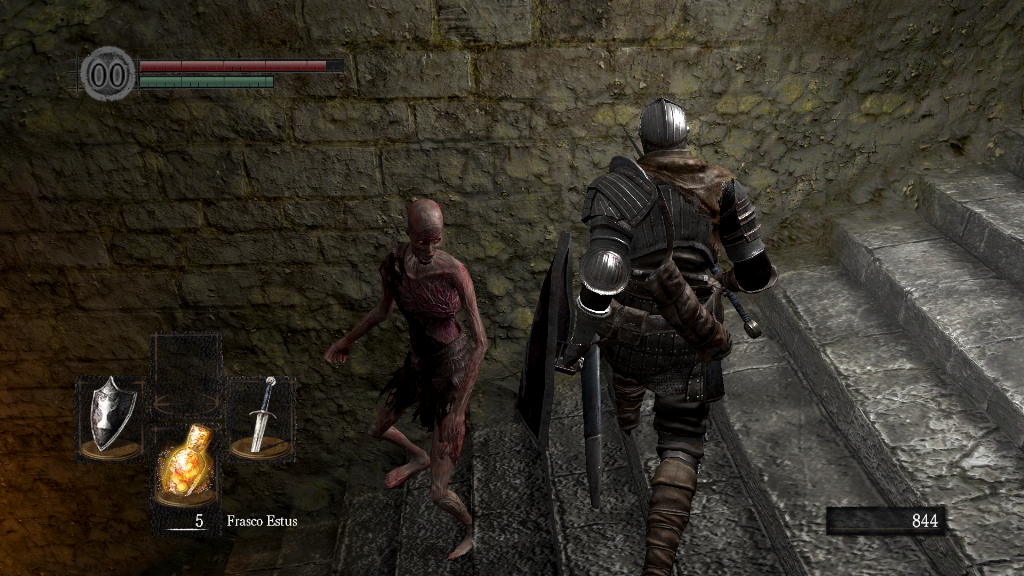health: (138, 58, 343, 71)
hollow: (320, 199, 491, 562)
humanity: (80, 45, 136, 102)
player: (516, 98, 780, 576)
souls: (825, 506, 945, 536)
stamina: (138, 74, 274, 88)
